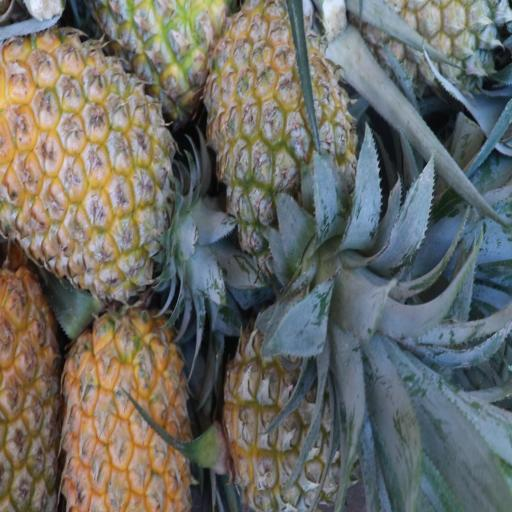------------------------------: (211, 5, 354, 243), (226, 304, 356, 507)
Pineapple - v8 v1: (0, 48, 181, 280), (64, 299, 189, 512), (0, 276, 65, 510)
